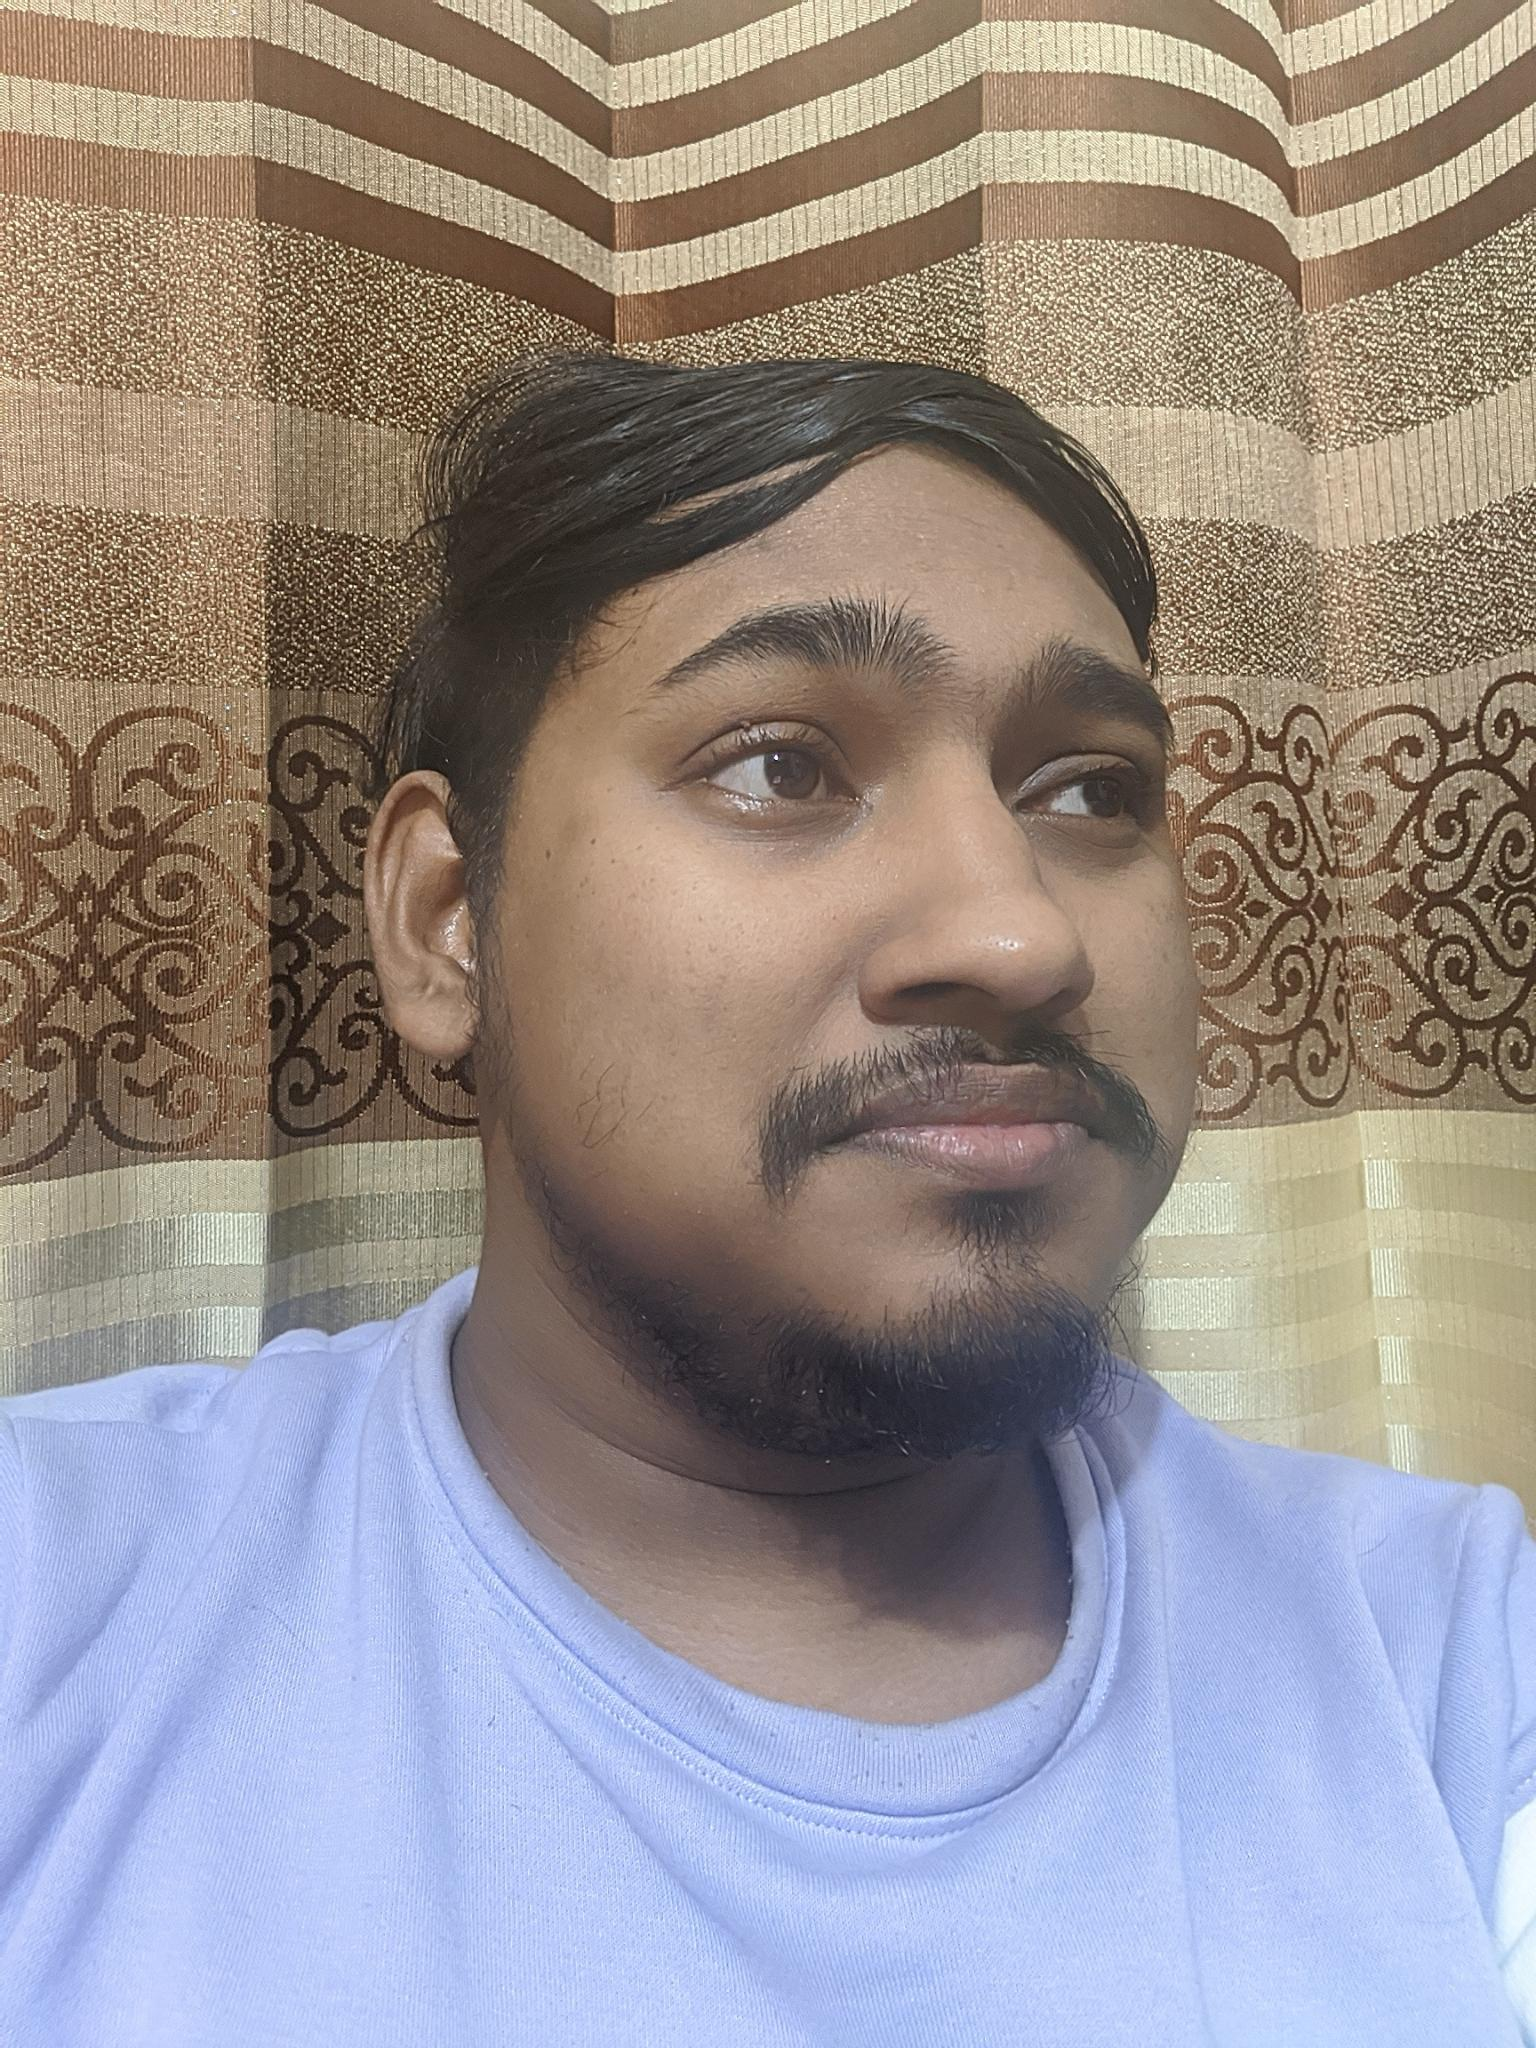Sad: (610, 543, 1212, 1393)
